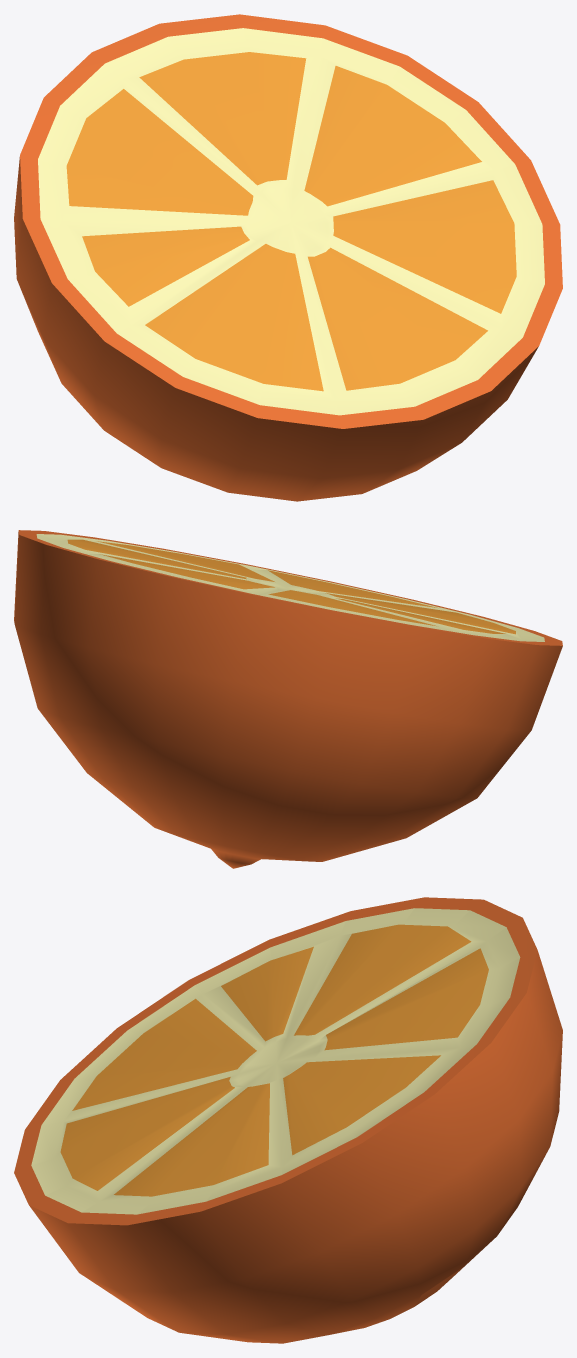
Rendered from SM_Fruits_Orange_3.fbx.
3 views of the same model, one above another, from view 1: azimuth 30°, elevation 25°; view 2: azimuth 150°, elevation 25°; view 3: azimuth 270°, elevation 25° (orthographic). The views are drawn at different scales.
Visible parts, largest first — view 1: SM_Fruits_Orange_3; view 2: SM_Fruits_Orange_3; view 3: SM_Fruits_Orange_3.
Boxes of the visible parts, x1=… form: SM_Fruits_Orange_3: x1=14, y1=14, x2=562, y2=501; SM_Fruits_Orange_3: x1=14, y1=530, x2=562, y2=868; SM_Fruits_Orange_3: x1=14, y1=897, x2=562, y2=1343.
Bounding box in the file's own units: 16.2 × 11.29 × 15.43.
